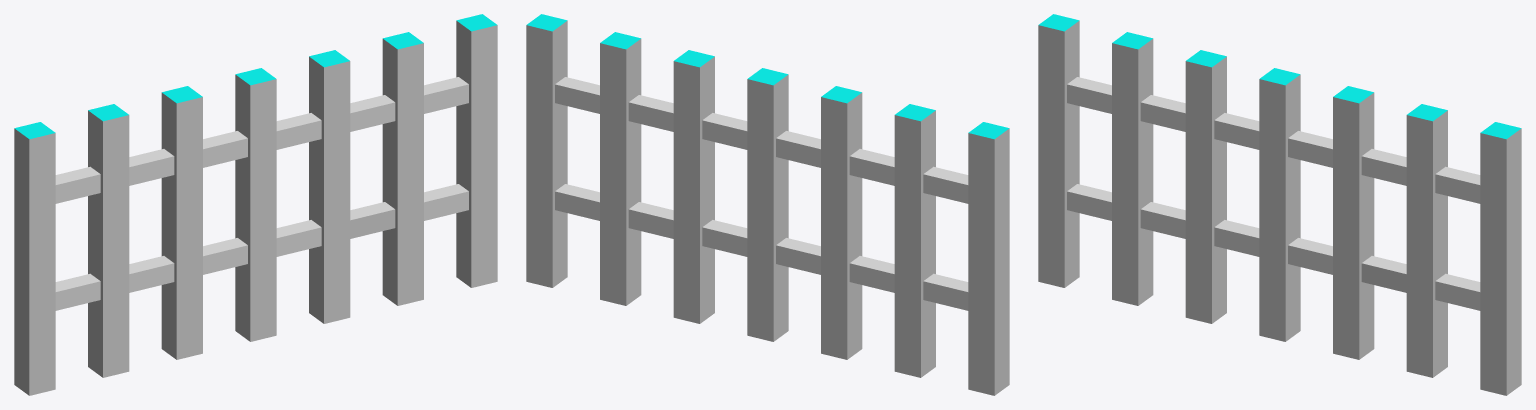
Rendered from BuildingS4.fbx.
3 views of the same model, side by side, from view 1: azimuth 30°, elevation 25°; view 2: azimuth 150°, elevation 25°; view 3: azimuth 330°, elevation 25° (orthographic).
Parts seen in each view (by area): view 1: S4; view 2: S4; view 3: S4.
Part boxes in pixels (box(x1,y1,x2,y2)): S4: box(14, 14, 497, 395); S4: box(526, 14, 1009, 395); S4: box(1038, 14, 1521, 395).
Size of the model in its own units: 587 by 307 by 32.96.
